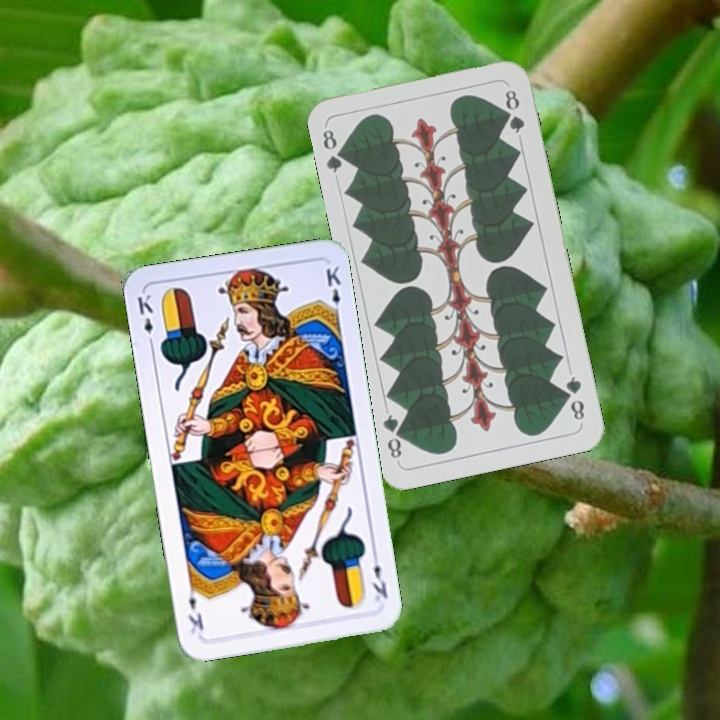EK: (133, 290, 157, 350), (366, 548, 391, 604)
G8: (318, 125, 350, 176), (561, 372, 587, 423)
